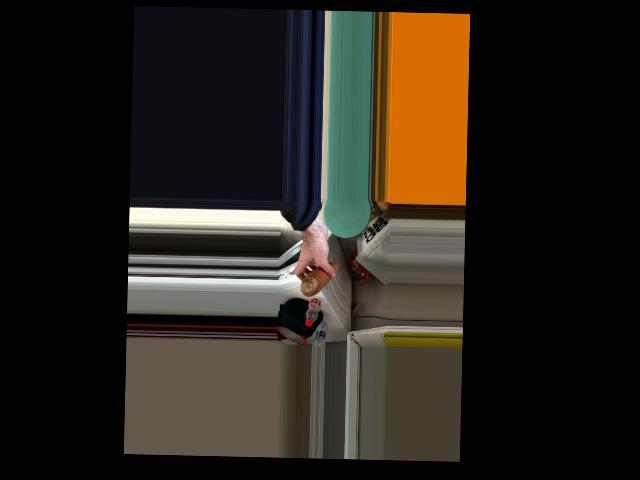sweet_potato: (297, 261, 342, 296)
